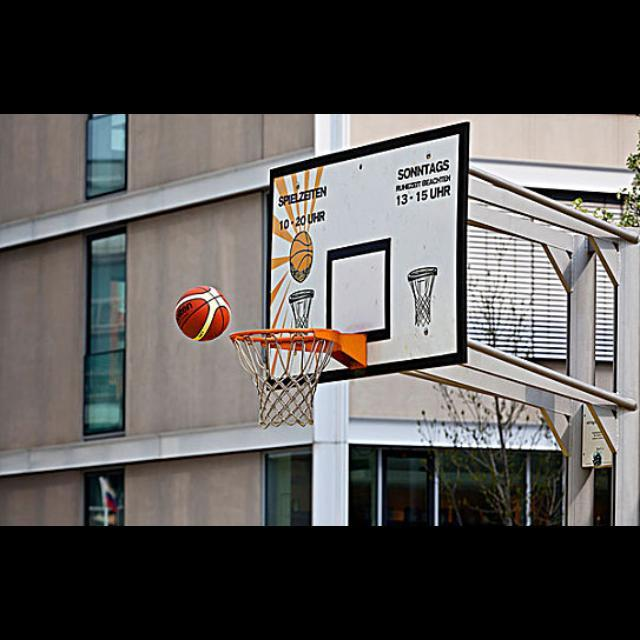basketball: (176, 287, 232, 341)
rim: (230, 329, 336, 428)
